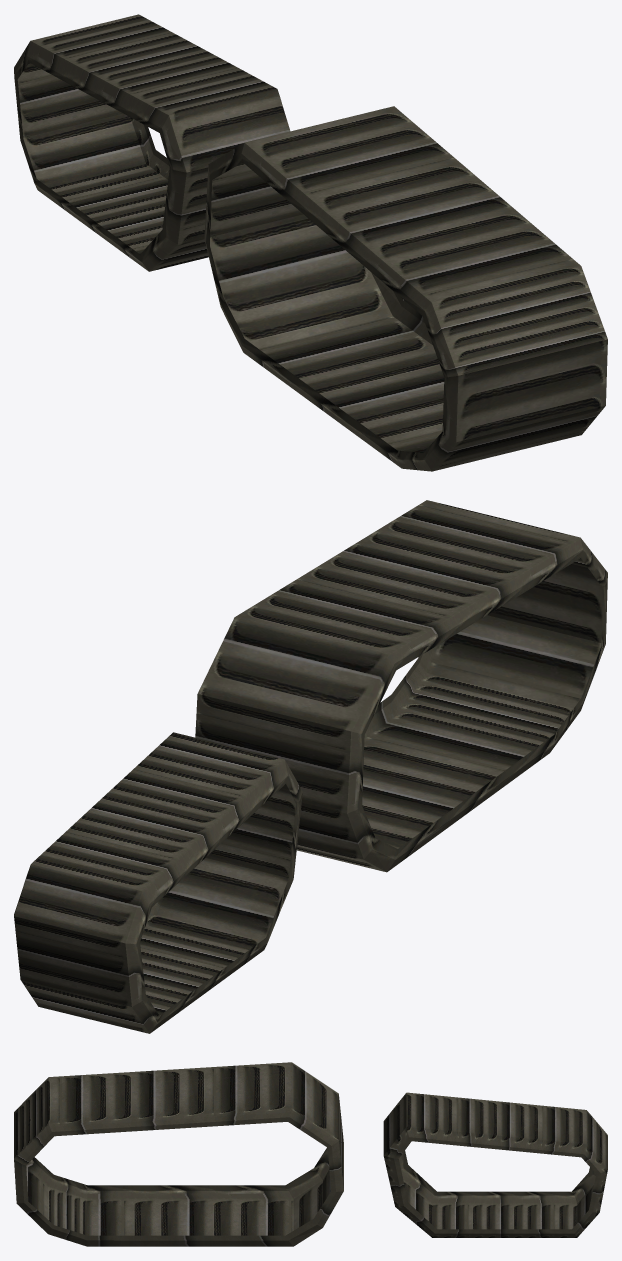
File: VSAAH_TRAC_R.bgf.obj
3 views of the same model, one above another, from view 1: azimuth 30°, elevation 25°; view 2: azimuth 150°, elevation 25°; view 3: azimuth 270°, elevation 25° (orthographic). The views are drawn at different scales.
Parts seen in each view (by area): view 1: R_TRACK; view 2: R_TRACK; view 3: R_TRACK.
Boxes of the visible parts, left/top/right/bottom form: R_TRACK: left=14, top=14, right=607, bottom=471; R_TRACK: left=14, top=500, right=607, bottom=1033; R_TRACK: left=14, top=1062, right=607, bottom=1246.
Size of the model in its own units: 1.24 by 1.58 by 6.19.
1 material, 1 textured.
